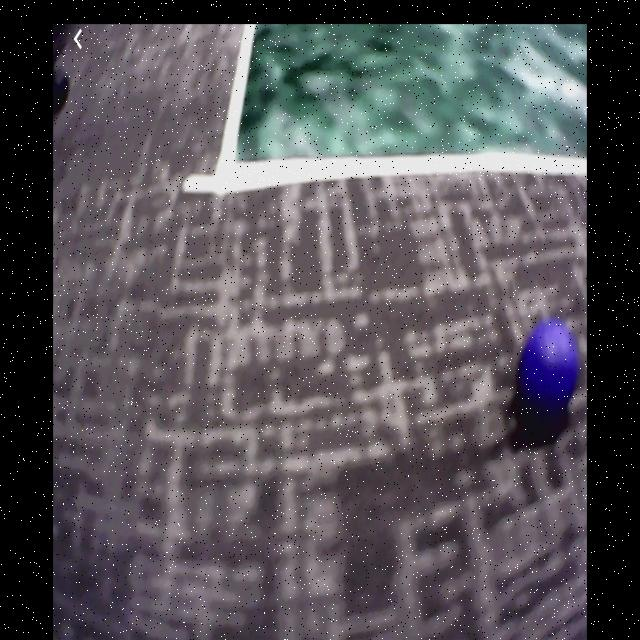ball: (519, 321, 581, 420)
